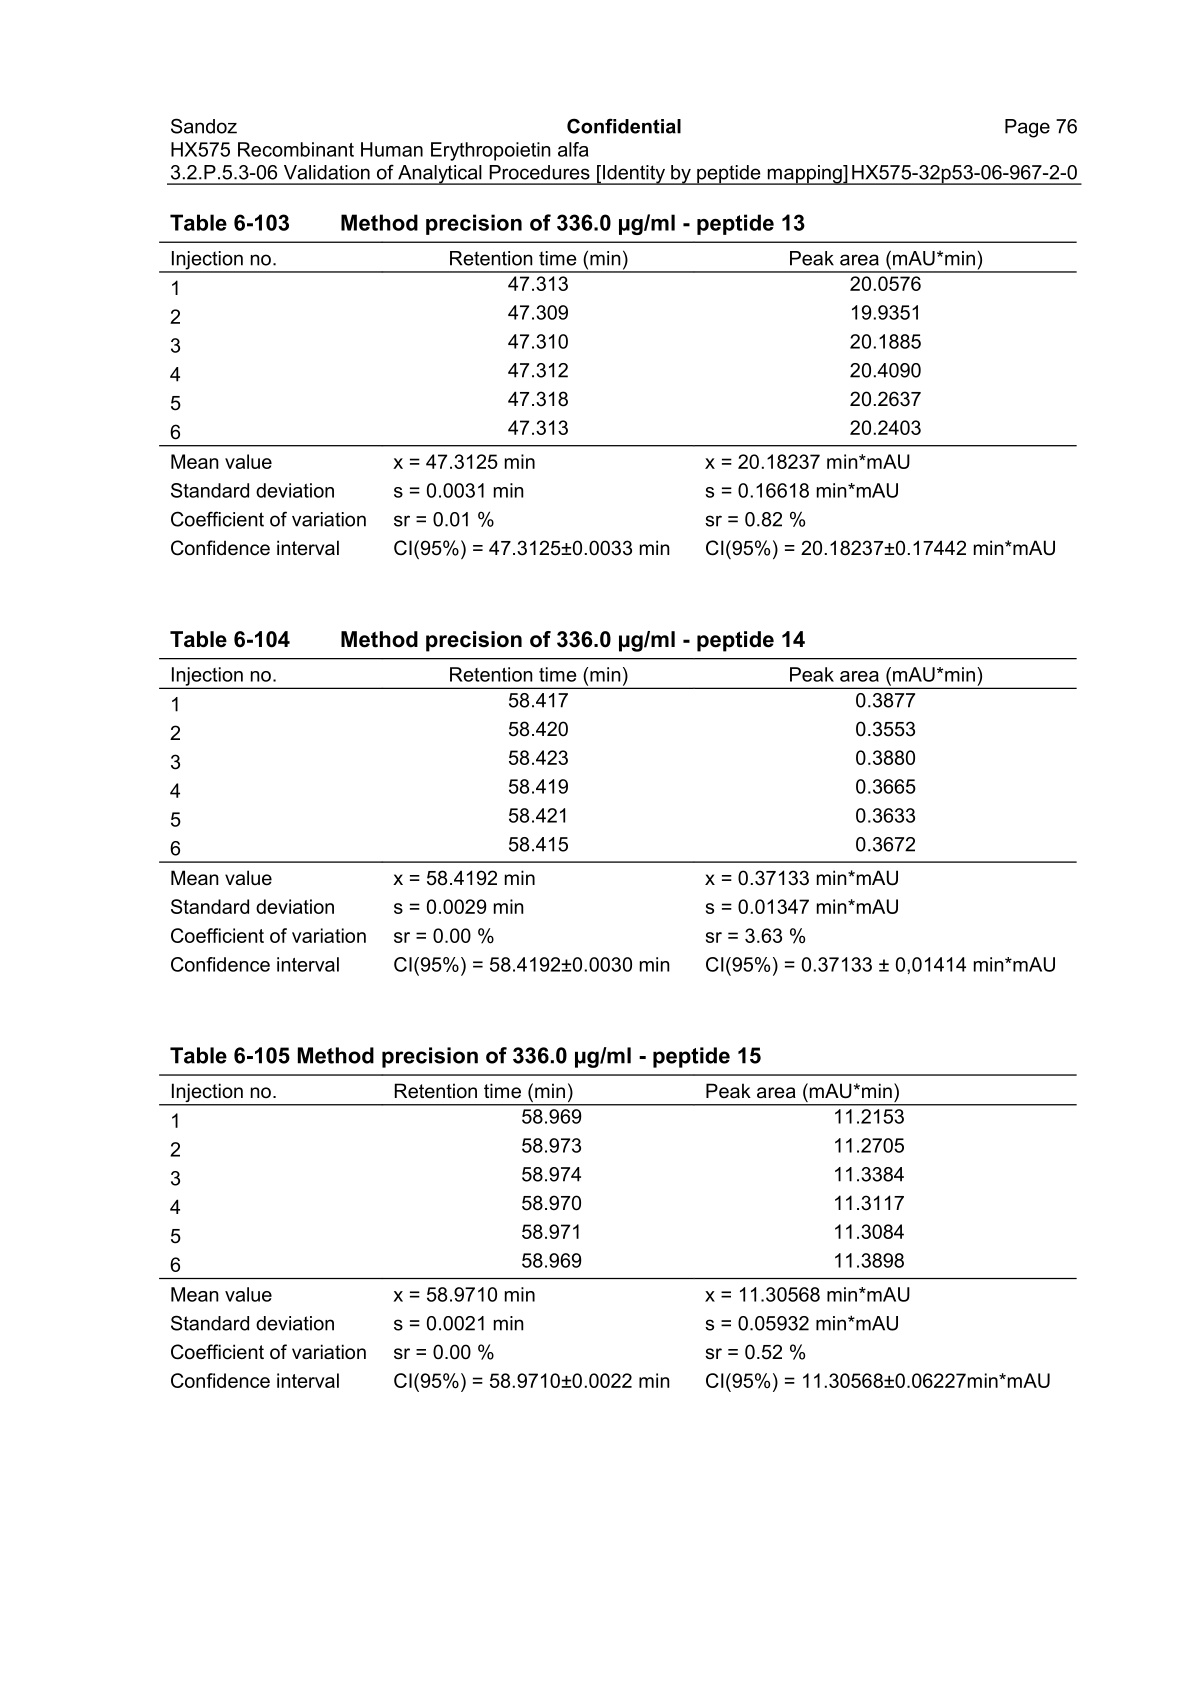partial_lined: (157, 655, 1080, 981), (159, 238, 1080, 563), (157, 1072, 1078, 1394)
